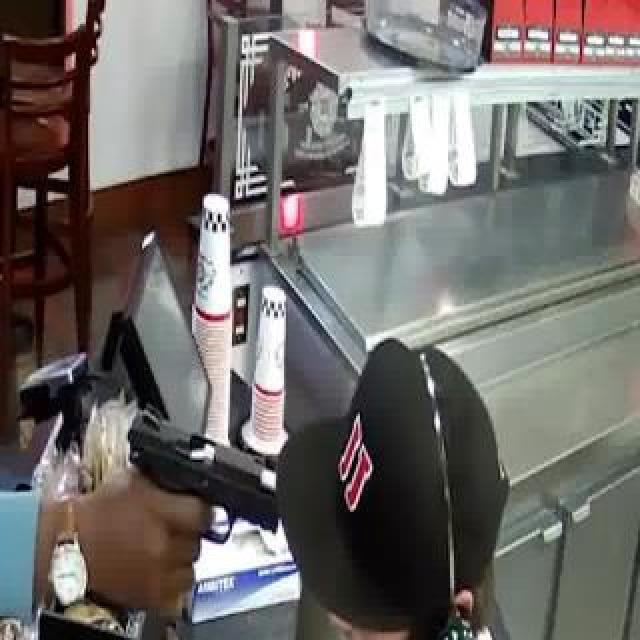Guns: (108, 375, 297, 587)
